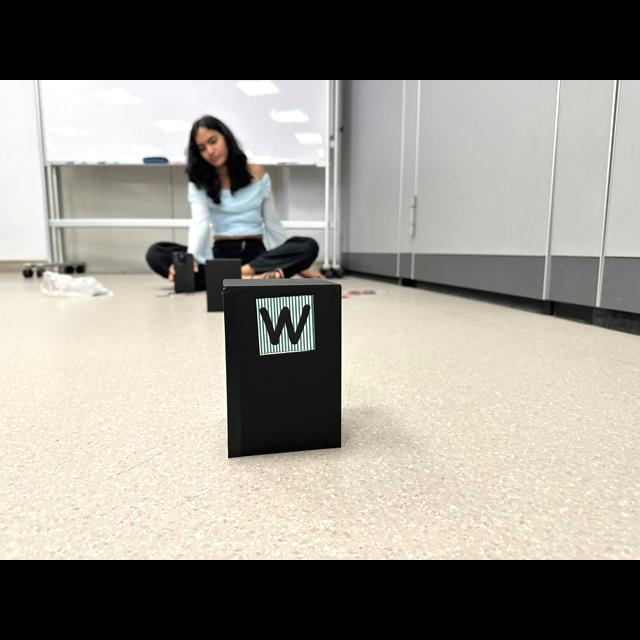W: (259, 305, 309, 345)
